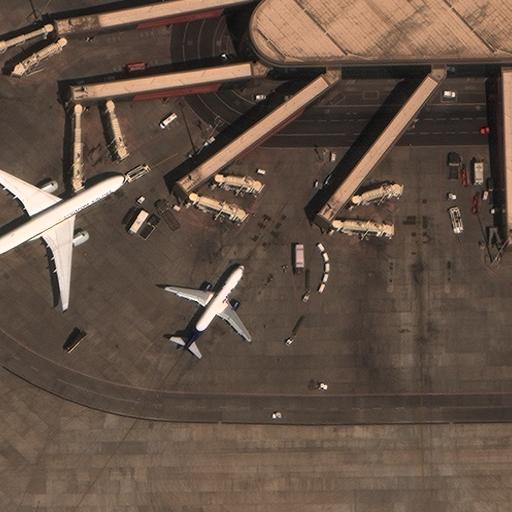Large Civil Transport: (0, 160, 127, 307)
Medium Civil Transport: (166, 267, 251, 350)
